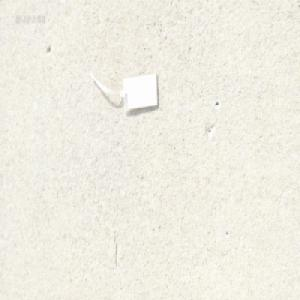LuggageTag: (87, 67, 158, 114)
